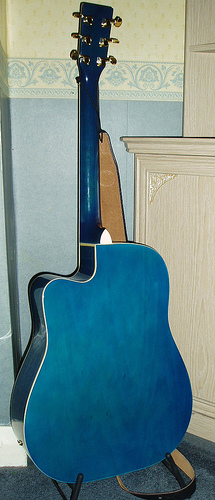guitar: (8, 3, 192, 485)
